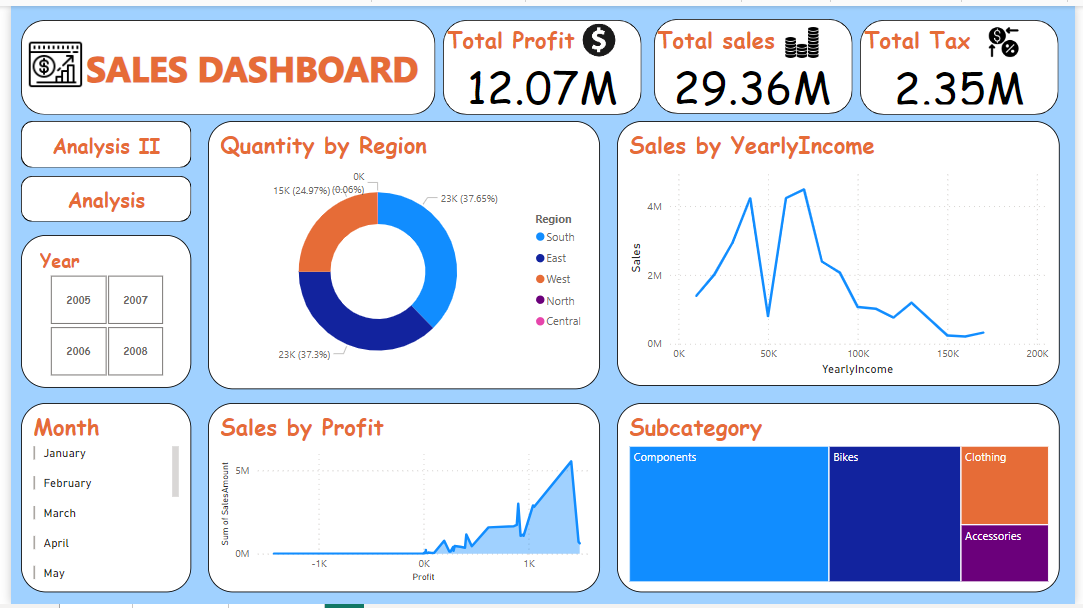

The page's visual inventory and layout, read from the dashboard file:
{"tool":"powerbi","page":{"name":"Analysis II","canvas":[1280,720],"ordinal":1},"visuals":[{"type":"shape","box":[11.8,16.8,498.9,114.2],"z":0},{"type":"shape","box":[520.3,17.1,239.1,114.3],"z":1000},{"type":"shape","box":[773.9,15.8,239.1,114.3],"z":2000},{"type":"shape","box":[1022.2,17.1,239.1,114.3],"z":3000},{"type":"card","fields":{"Values":["Sum(Sales.Profit)"]},"box":[520.3,61.9,239.5,67.4],"z":4000},{"type":"textbox","box":[520.3,16.5,273.9,56.4],"z":5000},{"type":"image","box":[657.9,15.1,101.8,50.9],"z":6000},{"type":"card","fields":{"Values":["Sum(Sales.SalesAmount)"]},"box":[773.5,61.9,239.5,67.4],"z":7000},{"type":"textbox","box":[773.5,16.5,239.5,56.4],"z":8000},{"type":"textbox","box":[85.3,41.3,554.7,71.6],"z":9000},{"type":"card","fields":{"Values":["Sum(Sales.TaxAmt)"]},"box":[1022.6,68.8,239.5,55.1],"z":10000},{"type":"textbox","box":[1022.6,16.5,239.5,57.8],"z":11000},{"type":"slicer","fields":{"Values":["Sales.OrderDate.Variation.Date Hierarchy.Year"]},"box":[12.4,275.3,205.1,184.4],"z":12000},{"type":"multiRowCard","title":"Month","fields":{"Values":["Sales.OrderDate.Variation.Date Hierarchy.Month"]},"box":[12.4,477.6,205.1,228.5],"z":13000},{"type":"lineChart","fields":{"Y":["Sum(Sales.SalesAmount)"],"Category":["Customer.YearlyIncome"]},"box":[729.5,139,532.6,319.3],"z":15000},{"type":"stackedAreaChart","title":" Sales by Profit","fields":{"Category":["Sales.Profit"],"Y":["Sum(Sales.SalesAmount)"]},"box":[236.7,477.6,472.1,228.5],"z":16000},{"type":"treemap","title":"Subcategory ","fields":{"Values":["CountNonNull(Products.SubcategoryName)"],"Group":["Products.CategoryName"]},"box":[729.5,477.6,532.6,228.5],"z":17000},{"type":"shape","box":[12.4,139,205.1,56.4],"z":18000},{"type":"shape","box":[12.4,205.1,205.1,55.1],"z":19000},{"type":"actionButton","box":[38.5,147.3,152.8,39.9],"z":20000},{"type":"actionButton","box":[38.5,212,152.8,39.9],"z":21000},{"type":"image","box":[1160.3,17.9,68.8,50.9],"z":22000},{"type":"image","box":[12.4,11,82.6,119.7],"z":23000},{"type":"image","box":[922.2,17.9,60.6,49.5],"z":24000},{"type":"donutChart","title":"Quantity by Region","fields":{"Y":["Sum(Sales.OrderQuantity)"],"Category":["Customer.Region"]},"box":[236.7,139,472.1,323.4],"z":25000}]}

Visuals, with their boxes in screenshot pixels (x1, y1, x2, y2), scaled from the page's 1280x720 canvas onto the 1083x608 screenshot:
shape: select_region(10, 14, 432, 111)
shape: select_region(440, 14, 643, 111)
shape: select_region(655, 13, 857, 110)
shape: select_region(865, 14, 1067, 111)
card - Sum(Sales.Profit): select_region(440, 52, 643, 109)
textbox: select_region(440, 14, 672, 62)
image: select_region(557, 13, 643, 56)
card - Sum(Sales.SalesAmount): select_region(654, 52, 857, 109)
textbox: select_region(654, 14, 857, 62)
textbox: select_region(72, 35, 542, 95)
card - Sum(Sales.TaxAmt): select_region(865, 58, 1068, 105)
textbox: select_region(865, 14, 1068, 63)
slicer - Sales.OrderDate.Variation.Date Hierarchy.Year: select_region(10, 232, 184, 388)
"Month" multiRowCard: select_region(10, 403, 184, 596)
lineChart - Sum(Sales.SalesAmount) x Customer.YearlyIncome: select_region(617, 117, 1068, 387)
" Sales by Profit" stackedAreaChart: select_region(200, 403, 600, 596)
"Subcategory " treemap: select_region(617, 403, 1068, 596)
shape: select_region(10, 117, 184, 165)
shape: select_region(10, 173, 184, 220)
actionButton: select_region(33, 124, 162, 158)
actionButton: select_region(33, 179, 162, 213)
image: select_region(982, 15, 1040, 58)
image: select_region(10, 9, 80, 110)
image: select_region(780, 15, 832, 57)
"Quantity by Region" donutChart: select_region(200, 117, 600, 390)
